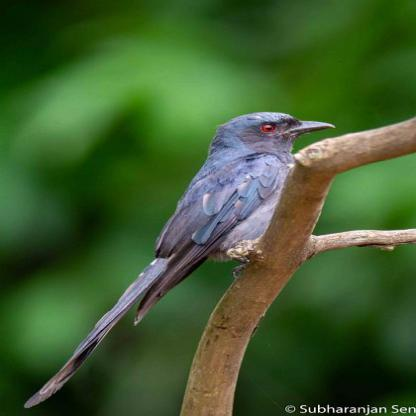Burung: (24, 112, 337, 406)
